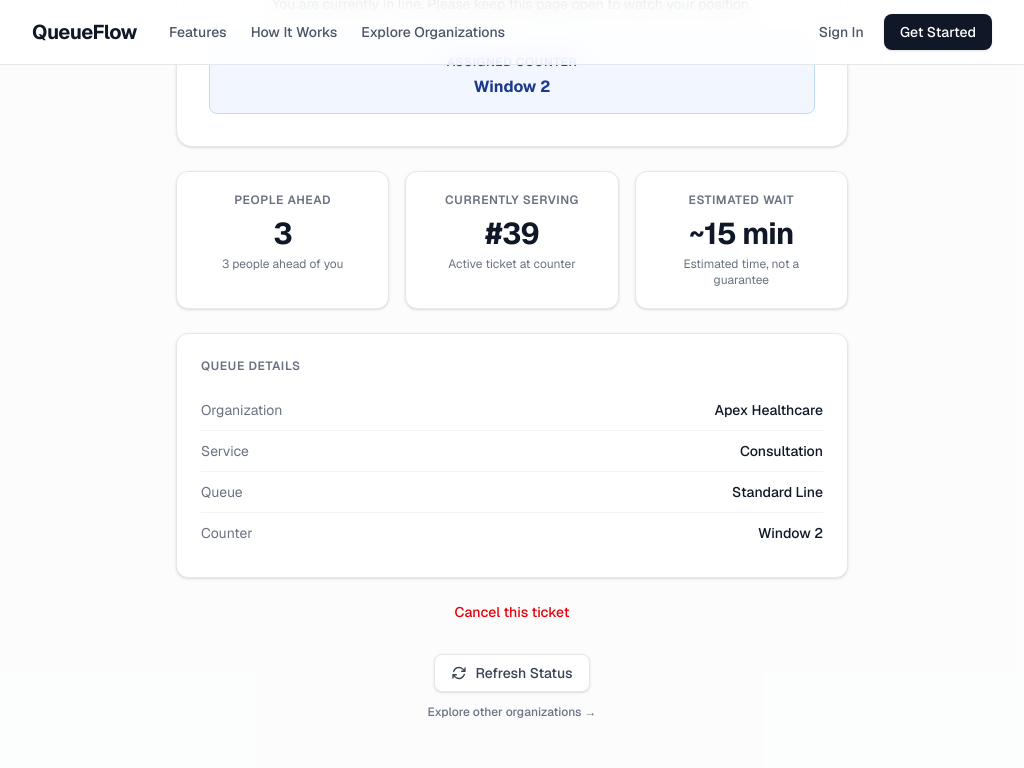
Test: app/tickets/track/[trackingToken]/page (Public Ticket Tracking) › Manual refresh action › refreshes ticket status manually and displays updating spinner state
(page scrolled)
Step 1. Click the button "Refresh Status" → (512,673), box [434,654,590,692]
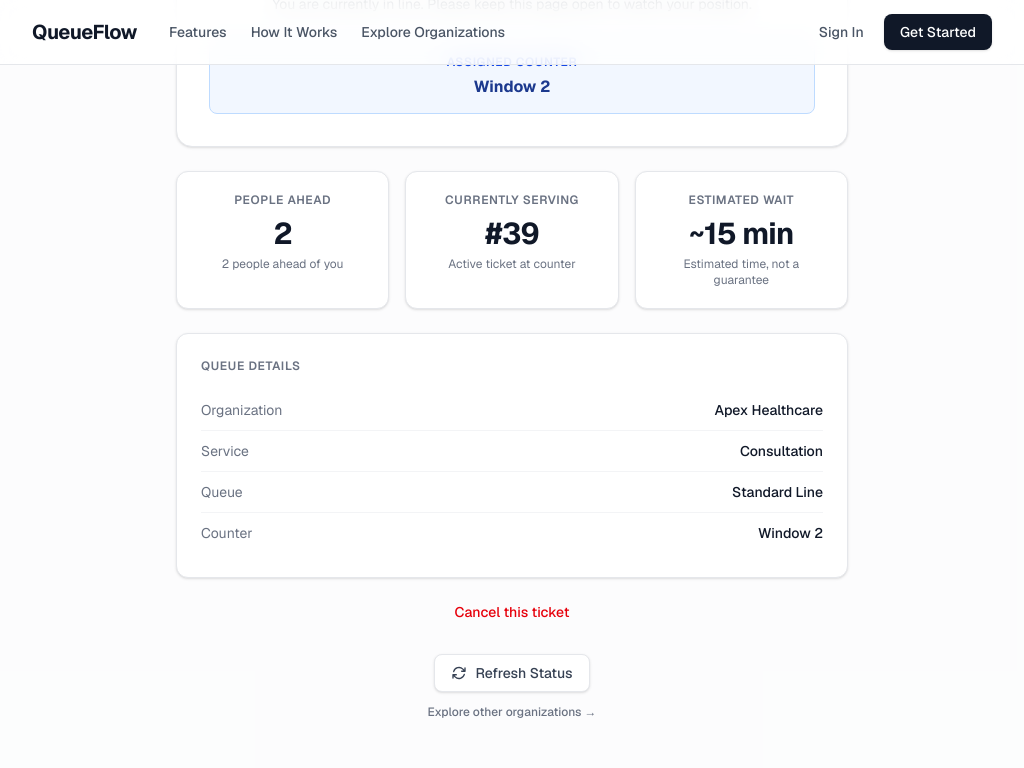
expect the text "2" is shown: met, box [273,214,292,253]
expect the text "2 people ahead of you" is shown: met, box [222,256,344,272]
